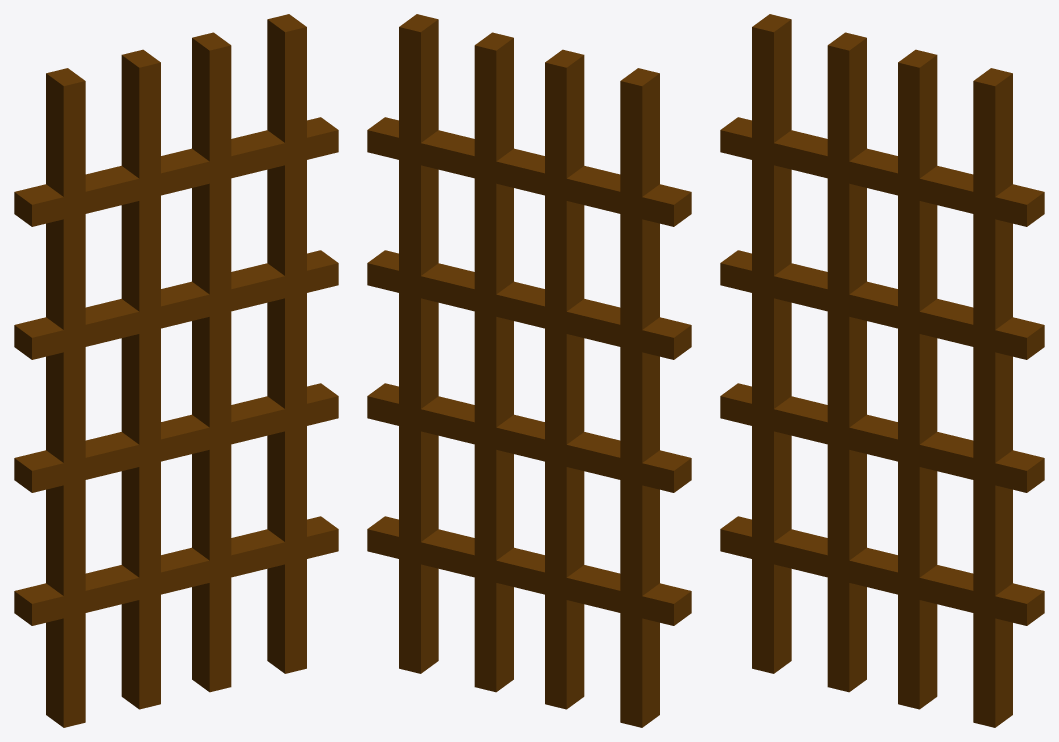
Rendered from door.obj.
The picture shows the model from 3 angles, left to right: view 1: azimuth 30°, elevation 25°; view 2: azimuth 150°, elevation 25°; view 3: azimuth 330°, elevation 25°; orthographic projection.
Parts seen in each view (by area): view 1: Bars_Cube.025; view 2: Bars_Cube.025; view 3: Bars_Cube.025.
Boxes of the visible parts, box(x1,y1,x2,y2) form: Bars_Cube.025: box(14, 14, 338, 727); Bars_Cube.025: box(367, 14, 691, 727); Bars_Cube.025: box(720, 14, 1044, 727).
Bounding box in the file's own units: 2 × 4 × 0.2.
